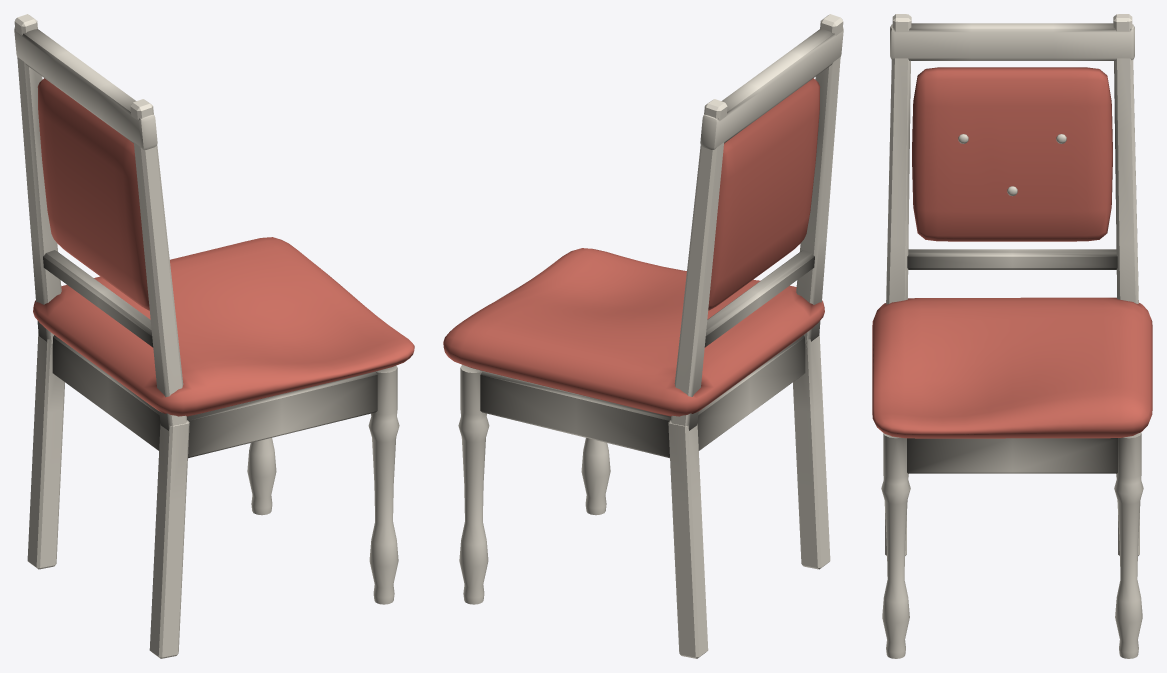
Rendered from junk_chair_soft.glb.
3 views of the same model, side by side, from view 1: azimuth 30°, elevation 25°; view 2: azimuth 150°, elevation 25°; view 3: azimuth 270°, elevation 25° (orthographic). The views are drawn at different scales.
Visible parts, largest first — view 1: PART; view 2: PART; view 3: PART.
Boxes of the visible parts, x1,y1,x2,y2 form: PART: (14, 14, 414, 658); PART: (443, 14, 843, 658); PART: (872, 14, 1152, 658).
Bounding box in the file's own units: 0.4997 × 0.9518 × 0.4575.
